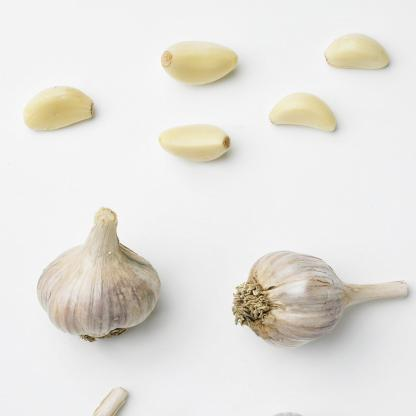garlic: (231, 244, 415, 364), (36, 200, 166, 354), (26, 82, 103, 138), (155, 40, 242, 89), (262, 92, 345, 140), (320, 31, 394, 82), (158, 121, 240, 167)
